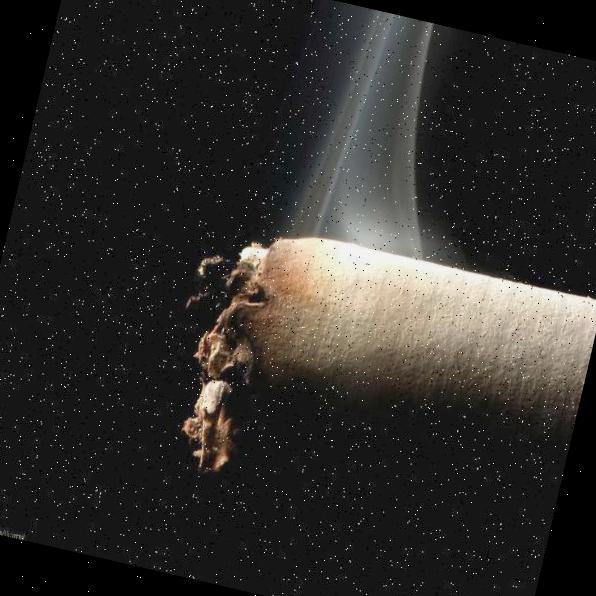smoke: (309, 6, 434, 244)
